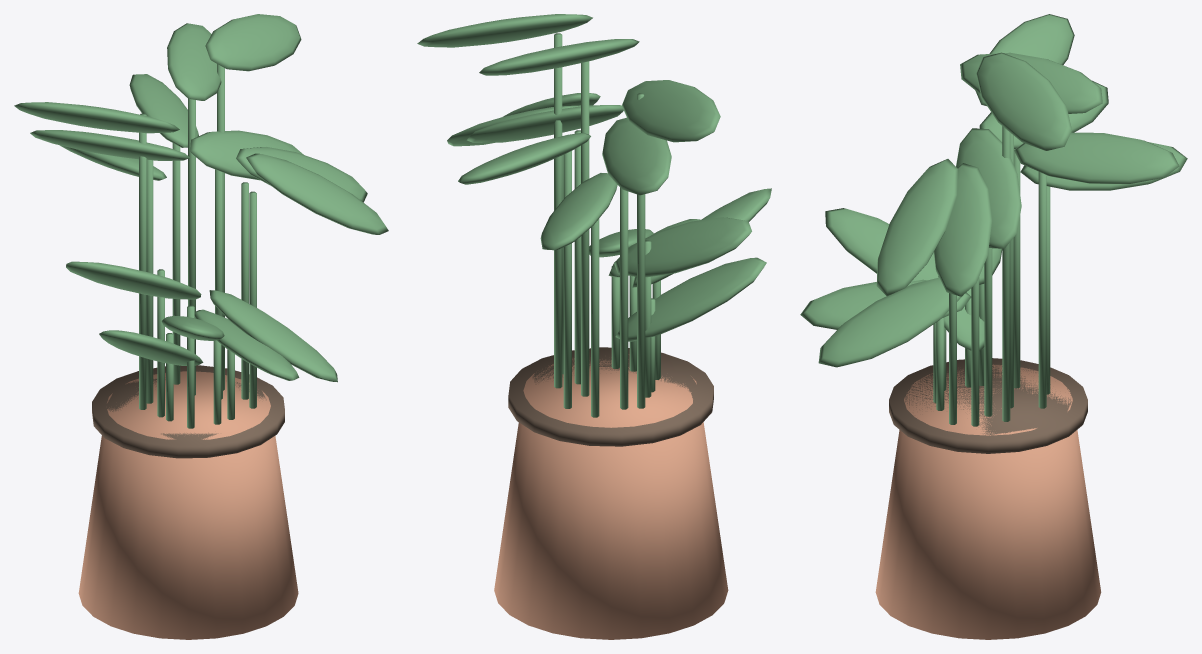
Rendered from plant.glb.
3 renders of one model, left to right at view 1: azimuth 30°, elevation 25°; view 2: azimuth 150°, elevation 25°; view 3: azimuth 270°, elevation 25°, orthographic. The views are drawn at different scales.
Parts seen in each view (by area): view 1: plant; view 2: plant; view 3: plant.
Part boxes in pixels (x1,y1,x2,y2): plant: [14, 14, 388, 639]; plant: [417, 14, 771, 639]; plant: [800, 14, 1187, 639].
Bounding box in the file's own units: 0.5392 × 0.9208 × 0.584.
